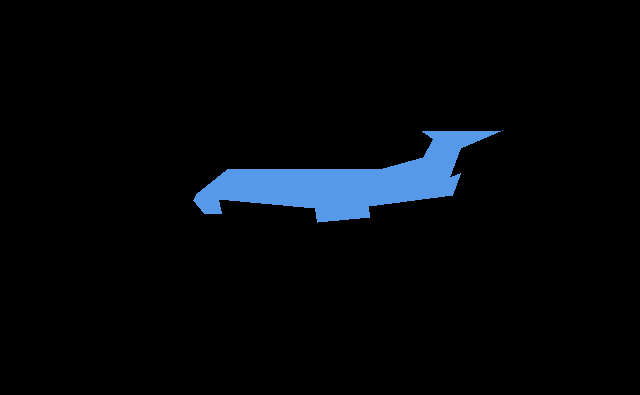Airplane: (193, 130, 502, 222)
